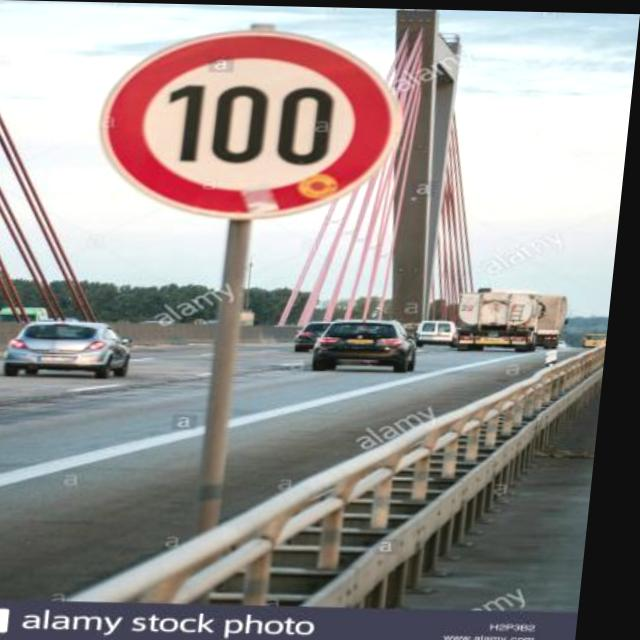limit100: (94, 20, 423, 231)
